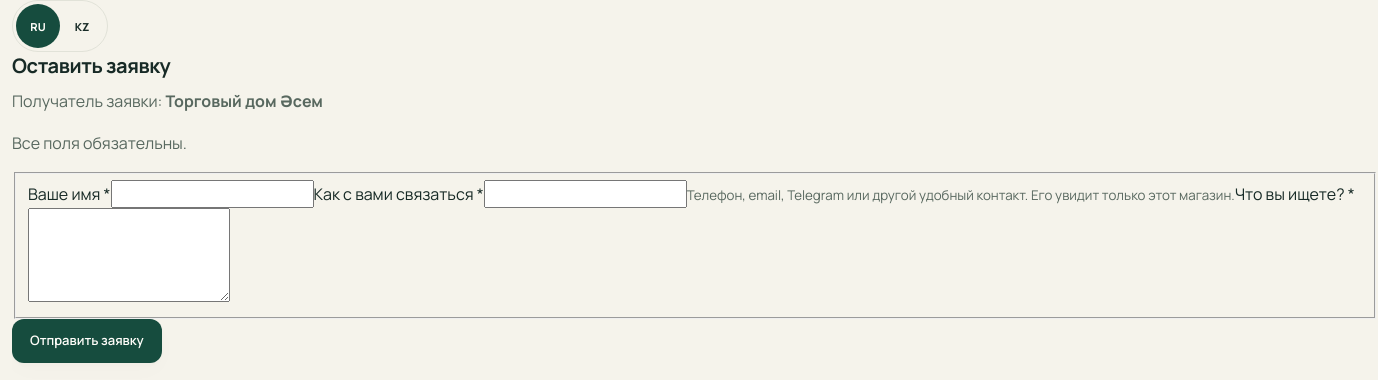
Test case: public shop inquiry form › shows Kazakh labels when the shared language is switched
Click the button "KZ".
click(82, 26)  # box [60, 4, 104, 48]
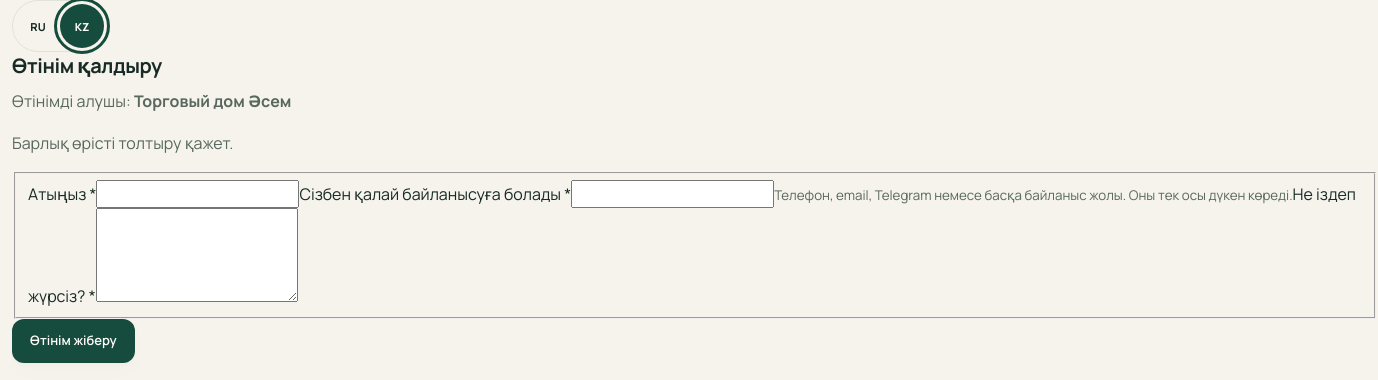
Expected: the field labelled "Атыңыз *" is shown, [96, 180, 300, 208]
Expected: the heading "Өтінім қалдыру" is shown, [12, 52, 162, 79]
